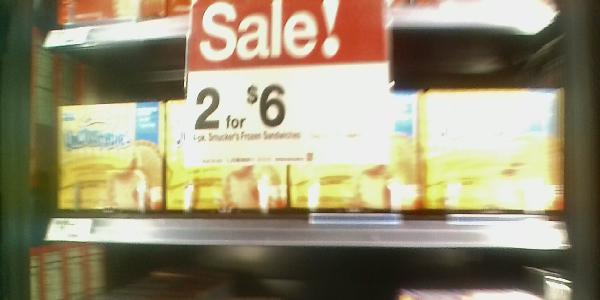icecream: (424, 88, 569, 215), (281, 91, 422, 218), (164, 97, 290, 216), (48, 101, 165, 219)
